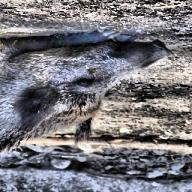boar: (0, 28, 172, 161)
